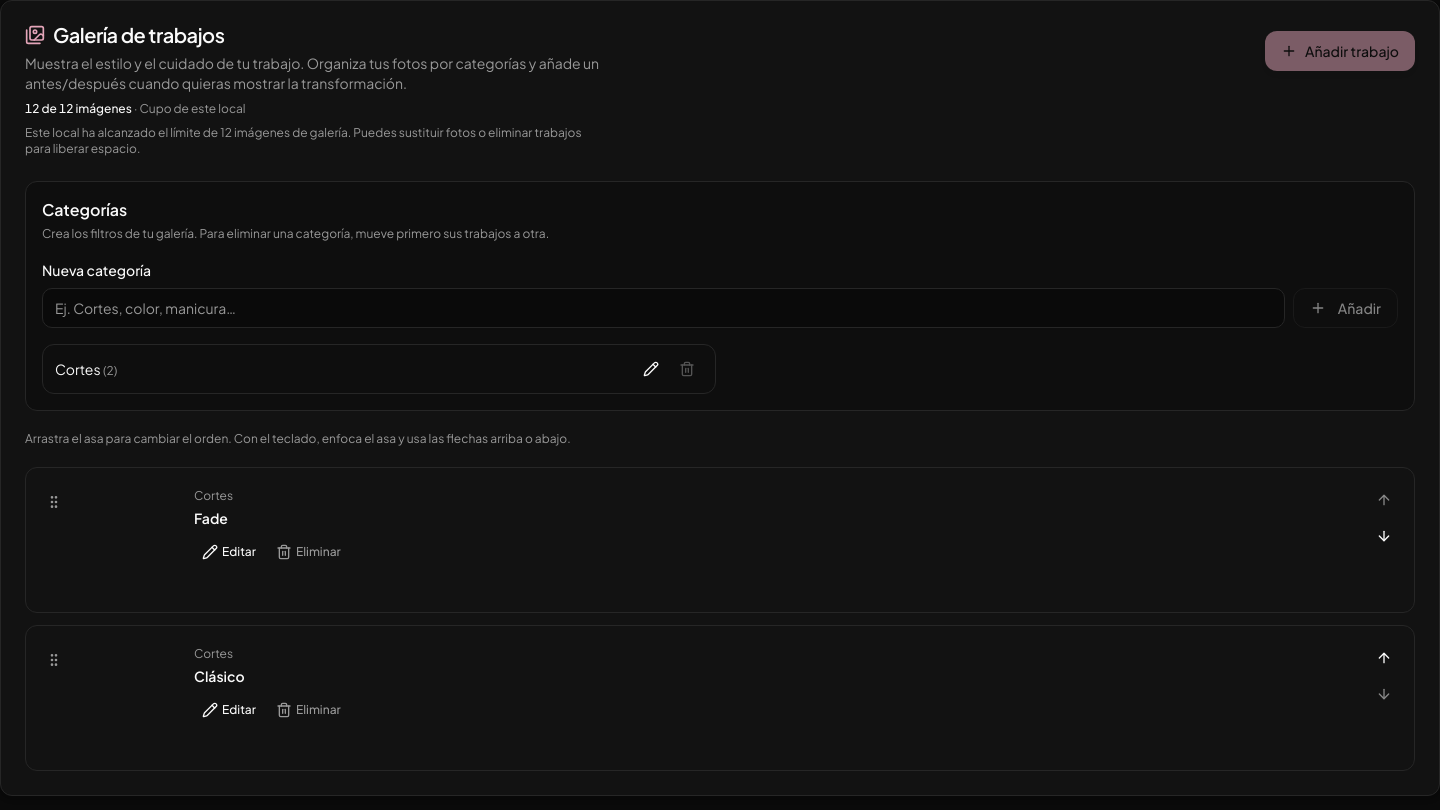
Scenario: refreshes capacity after deletion without invalidating another location’s gallery
The image size is (1440, 810).
Check: the text "12 de 12 imágenes" is shown, box [25,101,132,116]
Click the button "Eliminar" below "Fade" at (308, 552), box [268,536,349,568]
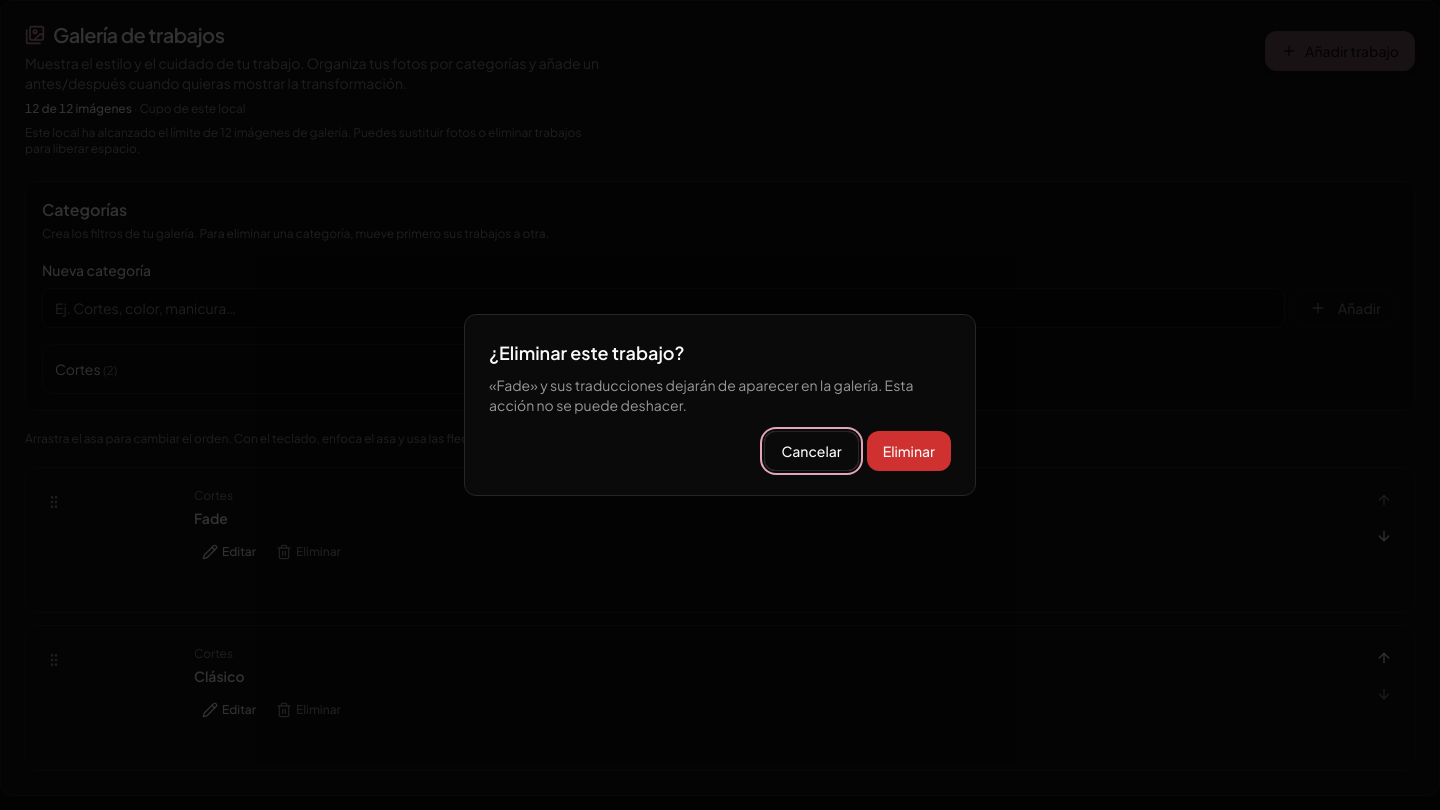
Click the button "Eliminar" at (909, 451), box [867,431,951,471]
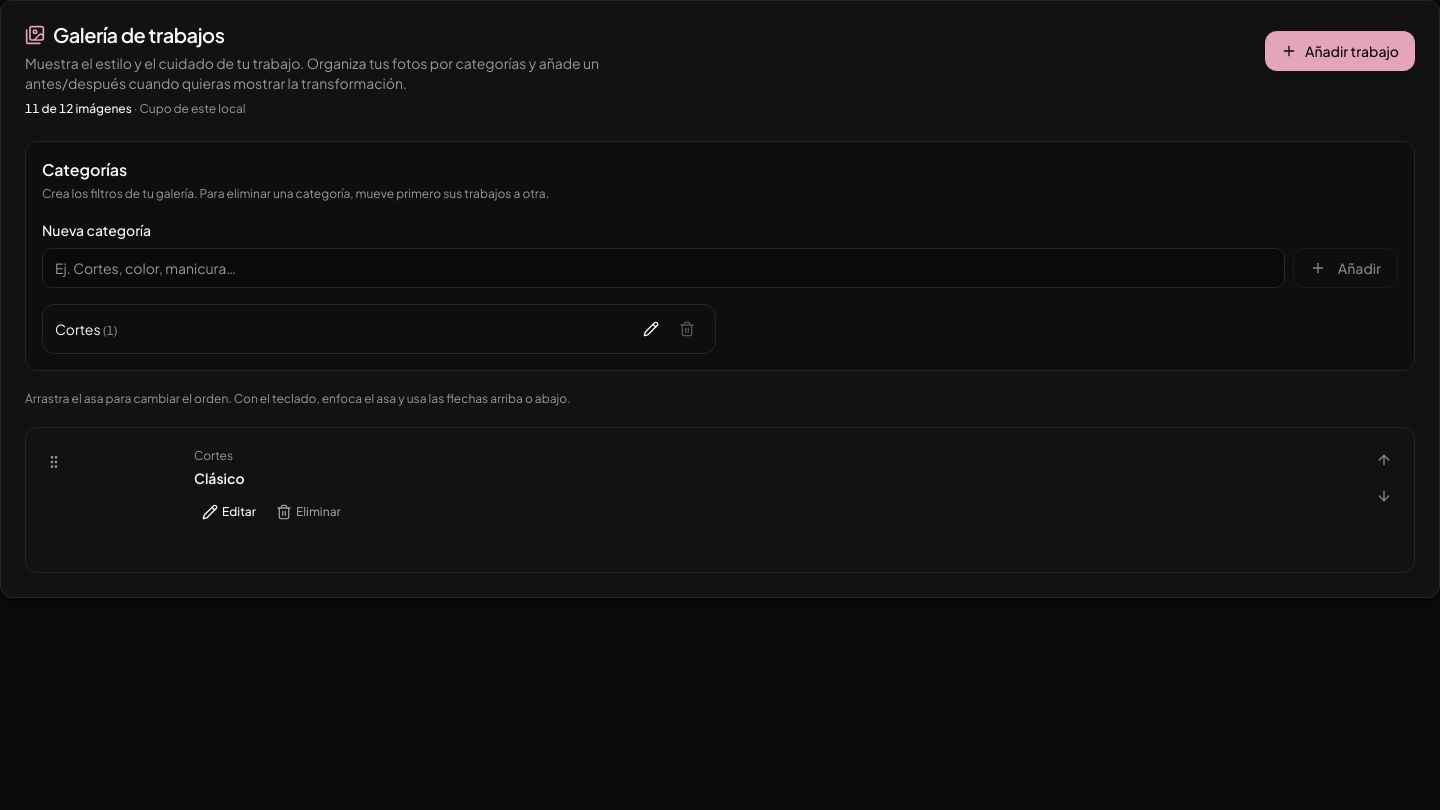
Check: the text "11 de 12 imágenes" is shown, box [25,101,132,116]
Check: the button "Añadir trabajo" is enabled, box [1265,31,1415,71]
